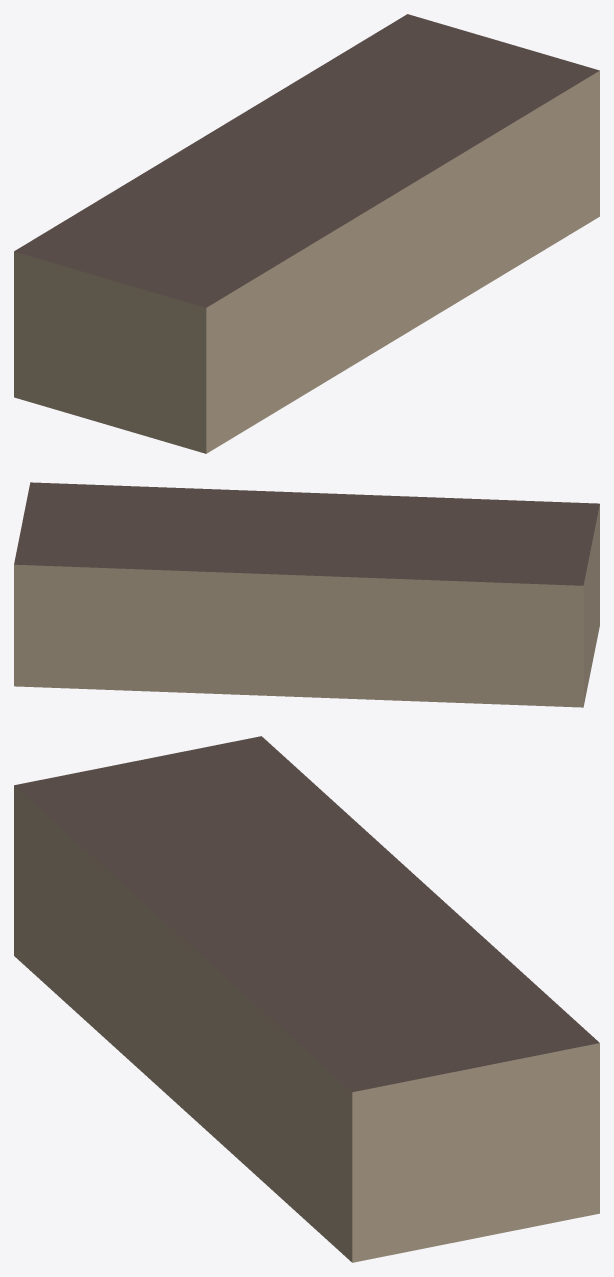
3 renders of one model, top to bottom at view 1: azimuth 30°, elevation 25°; view 2: azimuth 150°, elevation 25°; view 3: azimuth 270°, elevation 25°, orthographic. The views are drawn at different scales.
Visible parts, largest first — view 1: HP-w373833580; view 2: HP-w373833580; view 3: HP-w373833580.
Boxes of the visible parts, x1,y1,x2,y2 form: HP-w373833580: (14, 14, 599, 453); HP-w373833580: (14, 482, 599, 707); HP-w373833580: (14, 736, 599, 1262).
Bounding box in the file's own units: 40.3 × 9 × 28.02.
